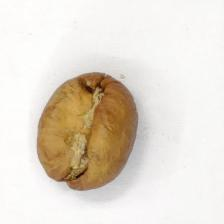NG: (56, 88, 106, 183)
